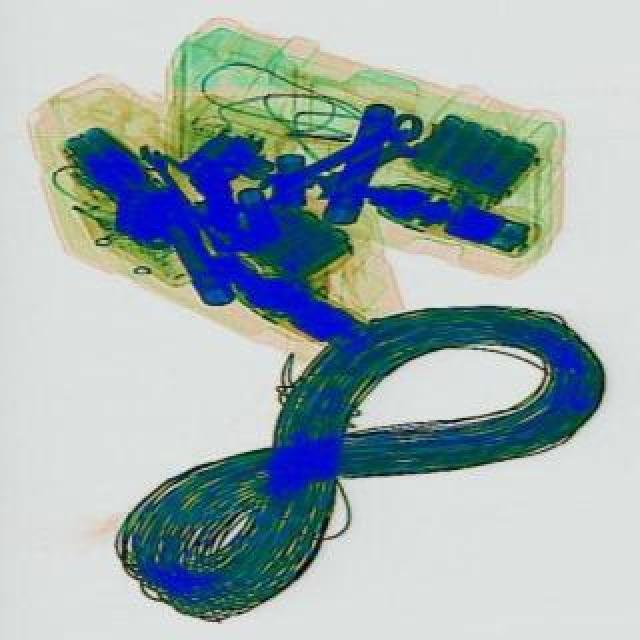scissors: (252, 104, 426, 208), (134, 138, 234, 252), (304, 122, 430, 204)
